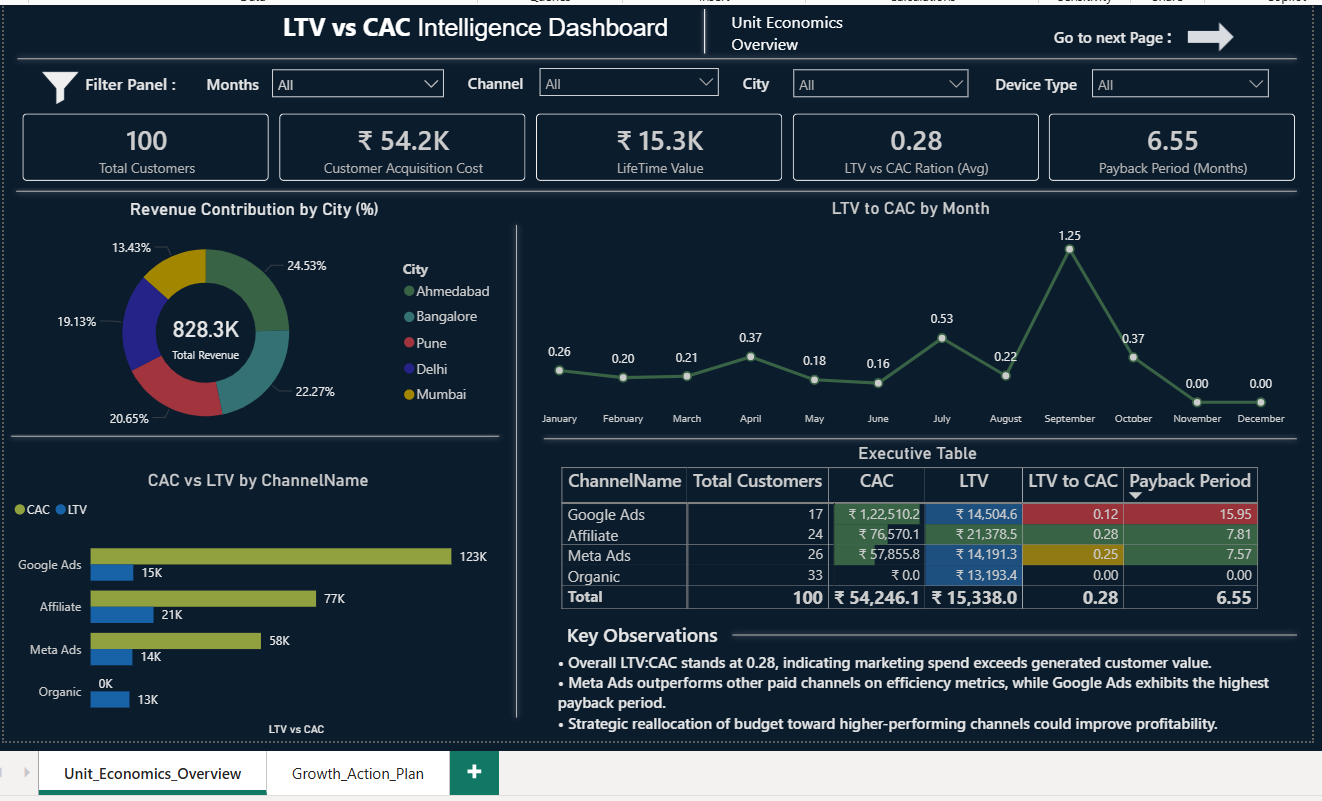

This screenshot's page, from the dashboard's own definition file:
{"tool":"powerbi","page":{"name":"Unit_Economics_Overview","canvas":[1280,720],"ordinal":0},"visuals":[{"type":"textbox","box":[267.8,0,403.5,51.4],"z":0},{"type":"textbox","box":[706.8,0,148,63.6],"z":1000},{"type":"cardVisual","fields":{"Data":["Fact_Orders.Total Customers","Dim_Channel.CAC","Dim_Channel.LTV","Dim_Channel.LTV to CAC","Dim_Channel.Payback Period"]},"box":[1.2,89.3,1279.1,100.3],"z":2000},{"type":"shape","box":[664,0,42.8,51.4],"z":3000},{"type":"clusteredBarChart","title":"CAC vs LTV by ChannelName","fields":{"Category":["Dim_Channel.ChannelName"],"Y":["Dim_Channel.CAC","Dim_Channel.LTV"]},"box":[4.9,454.9,487.9,265.4],"z":4000},{"type":"group","id":"g1","title":"Group 1","box":[35.5,51.4,1211.8,59.9],"z":5000},{"type":"shape","box":[7.3,36.7,1263.2,31.8],"z":6000},{"type":"slicer","fields":{"Values":["Dim_Date.Month"]},"box":[251.9,52.8,188.3,59.7],"z":6000,"group":"g1"},{"type":"image","box":[35.5,64.2,39.1,35.5],"z":7000,"group":"g1"},{"type":"shape","box":[6.1,174.9,1264.4,14.7],"z":7000},{"type":"textbox","box":[74.6,61.4,132.1,38.4],"z":8000,"group":"g1"},{"type":"lineChart","fields":{"Y":["Dim_Channel.LTV to CAC"],"Category":["Dim_Date.Date.Variation.Date Hierarchy.Month"]},"box":[513.6,188.3,747.2,233.6],"z":8000},{"type":"textbox","box":[193.2,62.8,88,39.8],"z":9000,"group":"g1"},{"type":"shape","box":[480.6,209.1,41.6,494],"z":9000},{"type":"slicer","fields":{"Values":["Dim_Channel.ChannelName"]},"box":[513.6,51.4,195.7,59.7],"z":10000,"group":"g1"},{"type":"pivotTable","title":"Executive Table","fields":{"Rows":["Dim_Channel.ChannelName"],"Values":["Fact_Orders.Total Customers","Dim_Channel.CAC","Dim_Channel.LTV","Dim_Channel.LTV to CAC","Dim_Channel.Payback Period"]},"box":[540.5,428,706.8,177.3],"z":10000},{"type":"slicer","fields":{"Values":["Dim_Customers.City"]},"box":[761.9,52.8,192,59.7],"z":11000,"group":"g1"},{"type":"shape","box":[522.1,415.8,748.4,17.1],"z":11000},{"type":"slicer","fields":{"Values":["Dim_Customers.DeviceType"]},"box":[1054.1,52.8,193.2,59.7],"z":12000,"group":"g1"},{"type":"donutChart","title":"Revenue Contribution by City (%)","fields":{"Category":["Dim_Customers.City"],"Y":["Fact_Orders.Total Revenue"]},"box":[0,189.5,489.1,243.3],"z":12000},{"type":"textbox","box":[448.8,61.4,88,39.8],"z":13000,"group":"g1"},{"type":"shape","box":[1.2,415.8,489.1,12.2],"z":13000},{"type":"textbox","box":[717.8,61.4,88,39.8],"z":14000,"group":"g1"},{"type":"textbox","box":[536.8,627.3,743.5,92.9],"z":14000},{"type":"textbox","box":[964.9,62.8,113.7,39.8],"z":15000,"group":"g1"},{"type":"shape","box":[706.8,605.3,563.7,22],"z":15000},{"type":"textbox","box":[540.5,598,187.1,39.1],"z":16000},{"type":"card","fields":{"Values":["Fact_Orders.Total Revenue"]},"box":[113.7,260.5,167.5,127.2],"z":17000},{"type":"image","box":[1111.6,0,135.7,62.4],"z":17001},{"type":"textbox","box":[1022.3,12.2,137,39.1],"z":17002}]}

Visuals, with their boxes on the page's 1280x720 design canvas (x1, y1, x2, y2). These are canvas units, not pixel positions in the 1322x801 screenshot, which may show the page scaled, cropped or inside an application window:
textbox: rect(268, 0, 671, 51)
textbox: rect(707, 0, 855, 64)
cardVisual - Fact_Orders.Total Customers x Dim_Channel.CAC: rect(1, 89, 1280, 190)
shape: rect(664, 0, 707, 51)
"CAC vs LTV by ChannelName" clusteredBarChart: rect(5, 455, 493, 720)
"Group 1" group: rect(36, 51, 1247, 111)
shape: rect(7, 37, 1270, 68)
slicer - Dim_Date.Month: rect(252, 53, 440, 112)
image: rect(36, 64, 75, 100)
shape: rect(6, 175, 1270, 190)
textbox: rect(75, 61, 207, 100)
lineChart - Dim_Channel.LTV to CAC x Dim_Date.Date.Variation.Date Hierarchy.Month: rect(514, 188, 1261, 422)
textbox: rect(193, 63, 281, 103)
shape: rect(481, 209, 522, 703)
slicer - Dim_Channel.ChannelName: rect(514, 51, 709, 111)
"Executive Table" pivotTable: rect(540, 428, 1247, 605)
slicer - Dim_Customers.City: rect(762, 53, 954, 112)
shape: rect(522, 416, 1270, 433)
slicer - Dim_Customers.DeviceType: rect(1054, 53, 1247, 112)
"Revenue Contribution by City (%)" donutChart: rect(0, 190, 489, 433)
textbox: rect(449, 61, 537, 101)
shape: rect(1, 416, 490, 428)
textbox: rect(718, 61, 806, 101)
textbox: rect(537, 627, 1280, 720)
textbox: rect(965, 63, 1079, 103)
shape: rect(707, 605, 1270, 627)
textbox: rect(540, 598, 728, 637)
card - Fact_Orders.Total Revenue: rect(114, 260, 281, 388)
image: rect(1112, 0, 1247, 62)
textbox: rect(1022, 12, 1159, 51)
